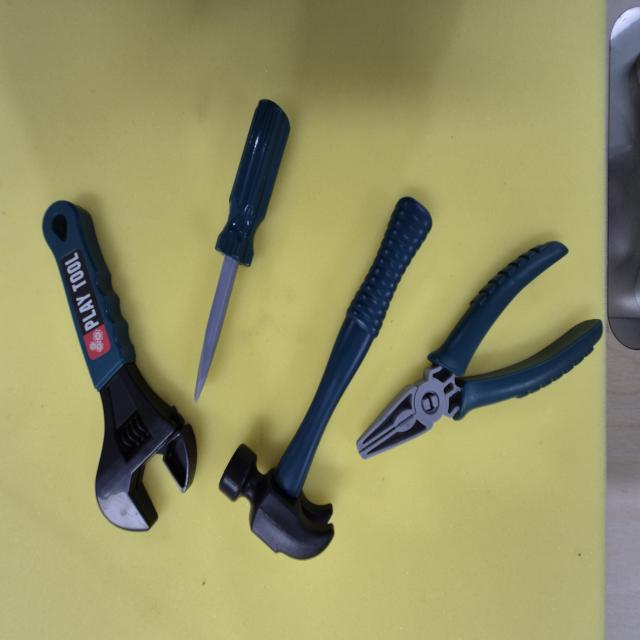hammer: (204, 181, 456, 573)
pliers: (336, 201, 605, 498)
screwdriver: (167, 84, 300, 408)
wrench: (22, 194, 210, 546)
